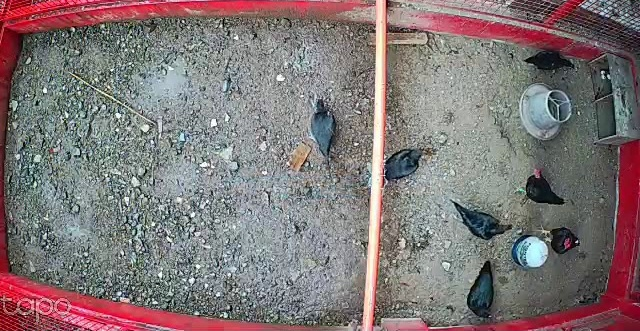Chicken: (448, 198, 515, 241), (509, 165, 566, 209), (304, 97, 337, 162), (466, 258, 498, 325), (382, 148, 427, 183), (522, 46, 579, 72)
Leg_Band_Green: (518, 187, 526, 194)
Rooster: (535, 221, 584, 254)
